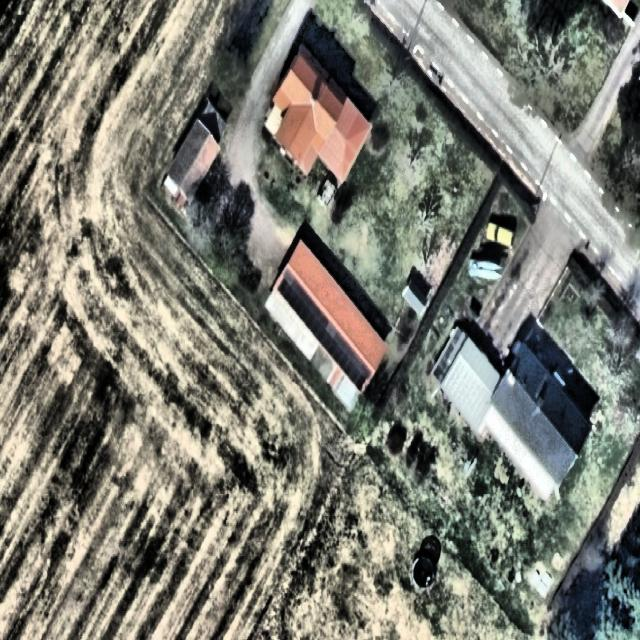roof_pv: (316, 305, 372, 397), (278, 266, 321, 336)
